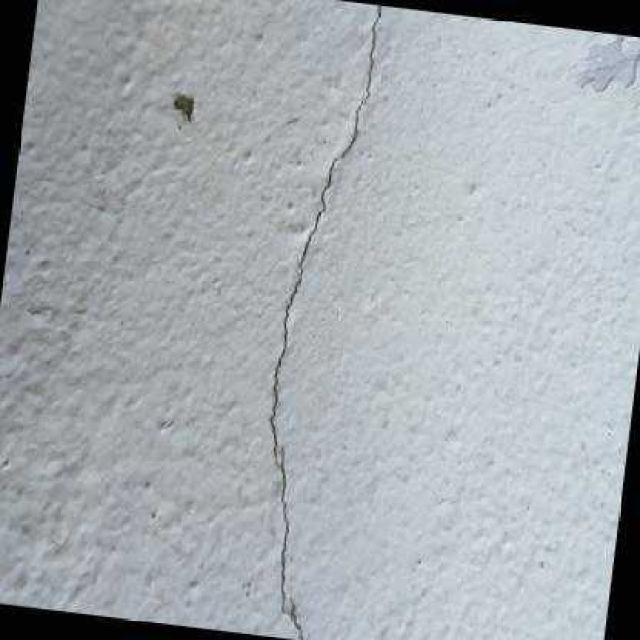D00: (267, 5, 381, 640)
